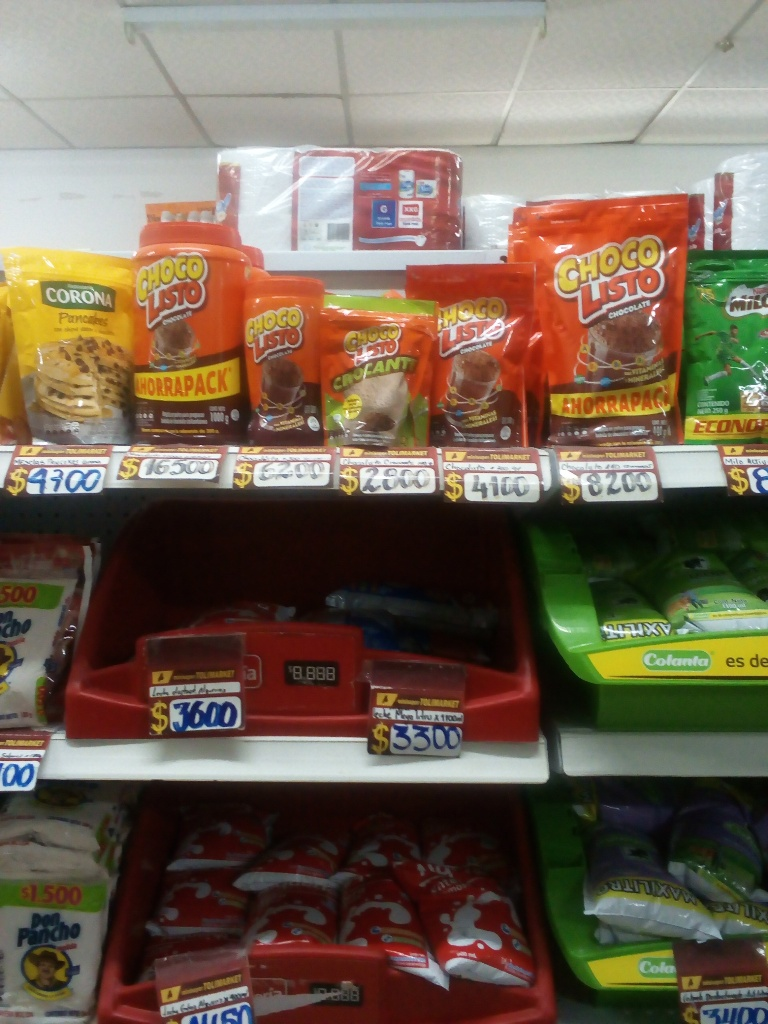COL0170102DYP10000: (318, 284, 432, 447)
COL0170103DYP20000: (398, 260, 522, 444)
COL0170103DYP44000: (513, 188, 691, 444)
COL0170103TRR00100: (123, 218, 250, 438)
COL0170103TRR30000: (236, 274, 329, 437)
COL0170203DYP25000: (678, 241, 768, 439)
